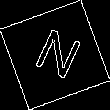N_SW: (26, 24, 84, 86)
